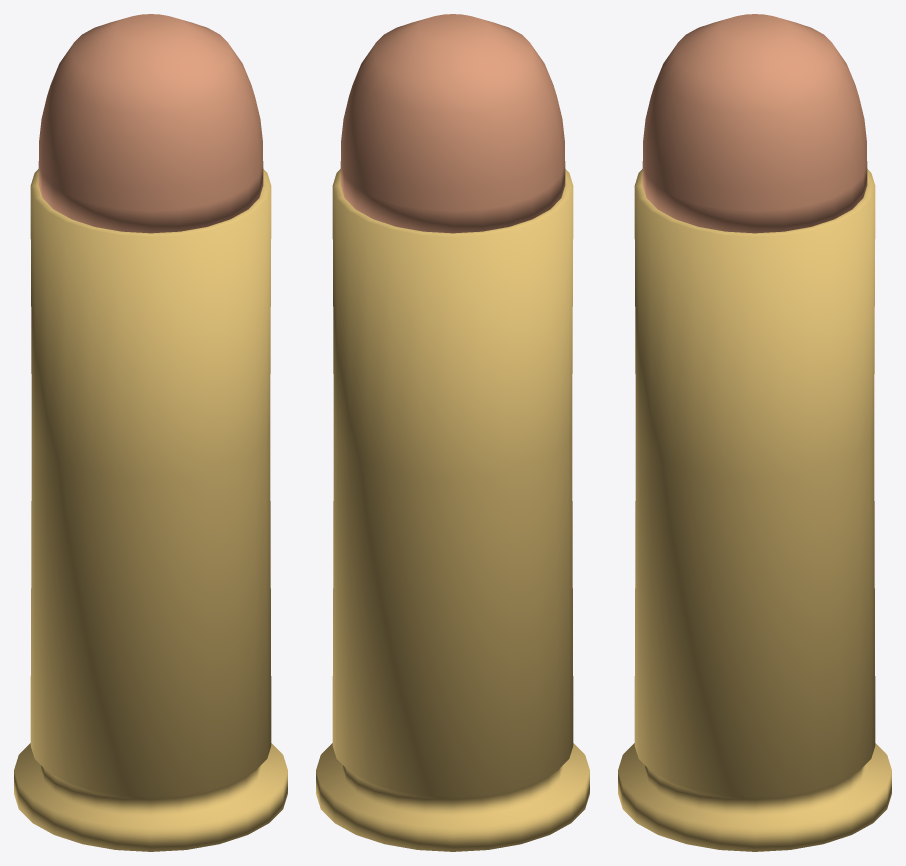
The model's file is 44mag_std.glb.
3 renders of one model, left to right at view 1: azimuth 30°, elevation 25°; view 2: azimuth 150°, elevation 25°; view 3: azimuth 270°, elevation 25°, orthographic.
Parts seen in each view (by area): view 1: vaina, bala; view 2: vaina, bala; view 3: vaina, bala.
Part boxes in pixels (x1,y1,x2,y2): vaina: (14,169,287,851); bala: (38,14,263,233); vaina: (316,169,589,851); bala: (340,14,565,233); vaina: (618,169,891,851); bala: (642,14,867,233).
Size of the model in its own units: 0.0133 by 0.041 by 0.0133.
